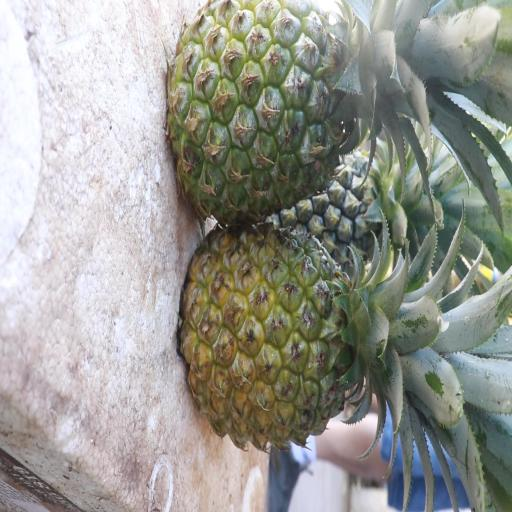------------------------------: (170, 4, 401, 217)
Pineapple - v8 v1: (187, 224, 407, 460)
